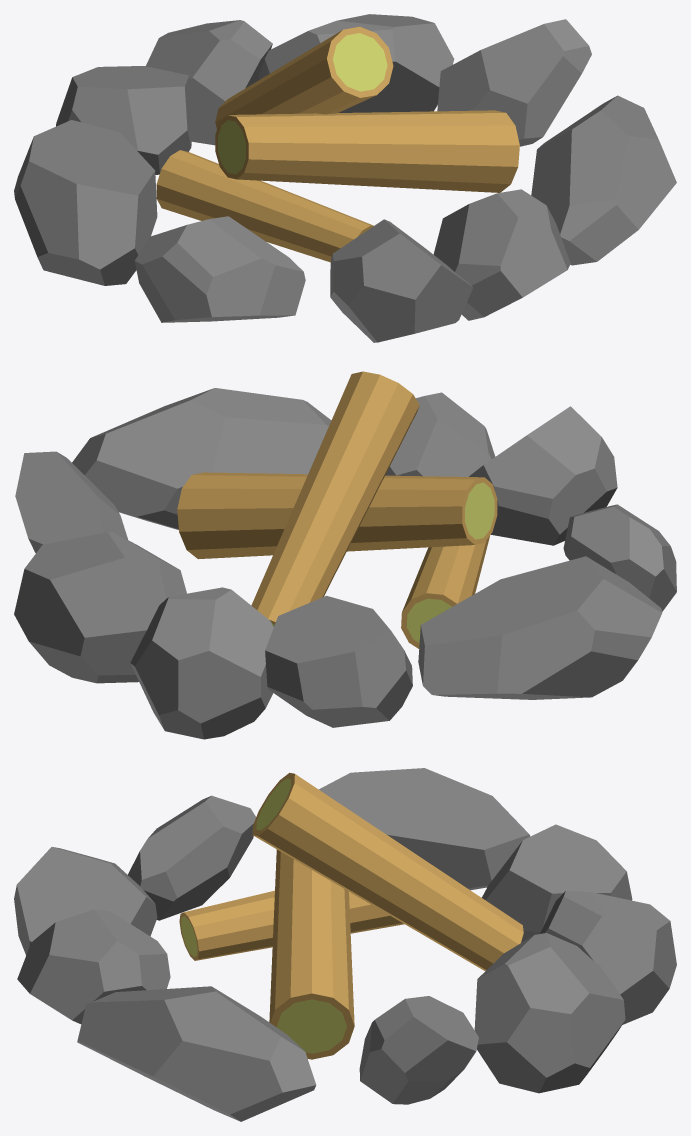
The model's file is Campfire.fbx.
3 renders of one model, top to bottom at view 1: azimuth 30°, elevation 25°; view 2: azimuth 150°, elevation 25°; view 3: azimuth 270°, elevation 25°, orthographic. The views are drawn at different scales.
Parts seen in each view (by area): view 1: Sphere; view 2: Sphere; view 3: Sphere.
Boxes of the visible parts, <box> form: Sphere: <box>14,14,676,342</box>; Sphere: <box>14,371,676,739</box>; Sphere: <box>14,768,676,1121</box>.
Size of the model in its own units: 152 by 148 by 59.17.
